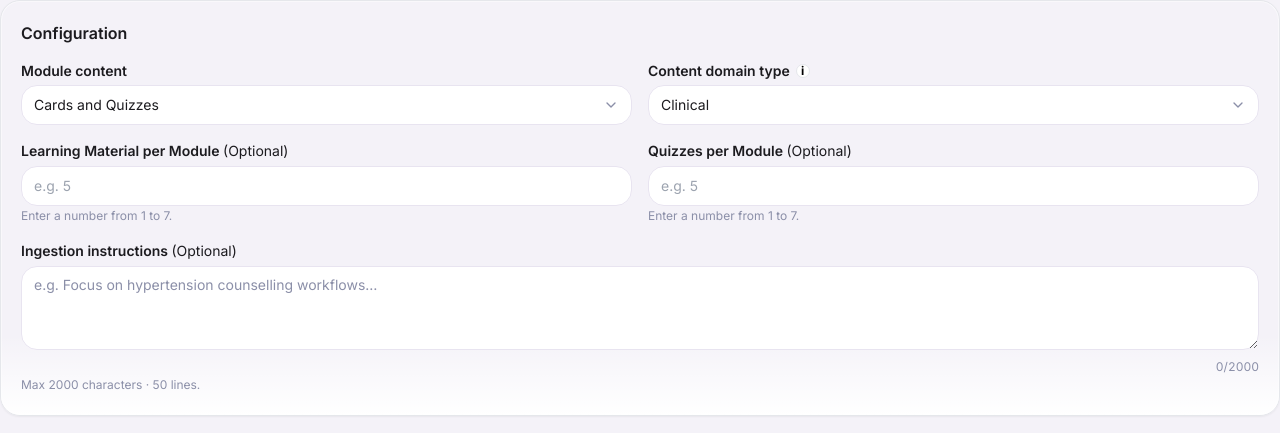
Test: IngestConfigurationPanel › blocks extra digits on optional module counts
Type "17" into the field labelled "Learning Material per Module" at [326, 186], box [21,166,632,206]
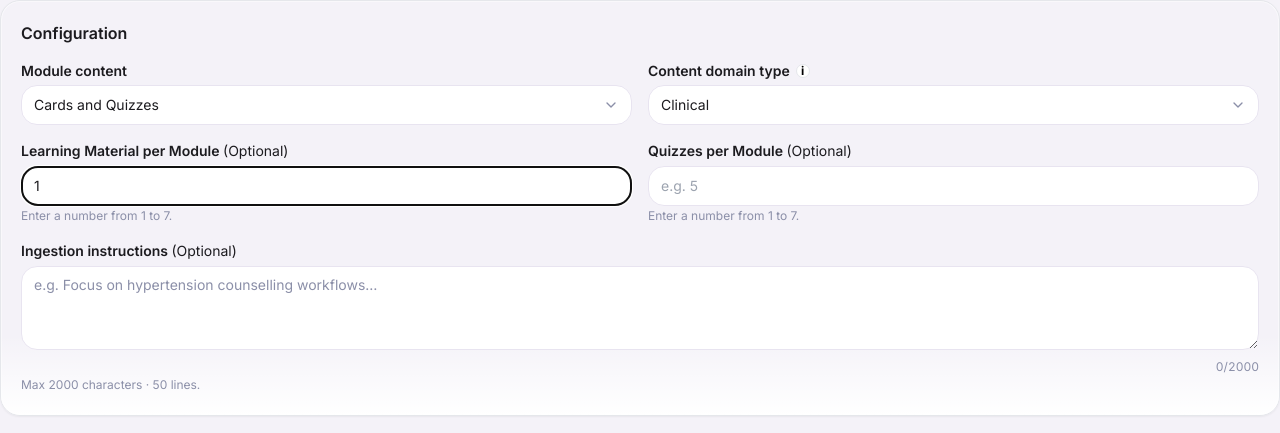
Result: the field labelled "Learning Material per Module" holds "1" at [21,166,632,206]
Type "99" into the field labelled "Quizzes per Module (Optional) Enter a number from 1 to 7." at [954, 186], box [648,166,1259,206]
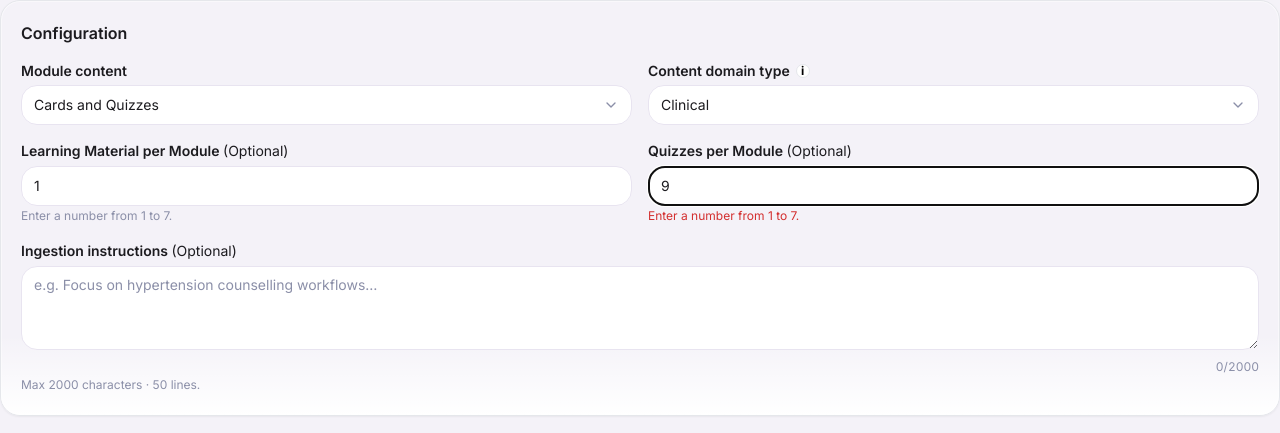
Result: the field labelled "Quizzes per Module (Optional) Enter a number from 1 to 7." holds "9" at [648,166,1259,206]
